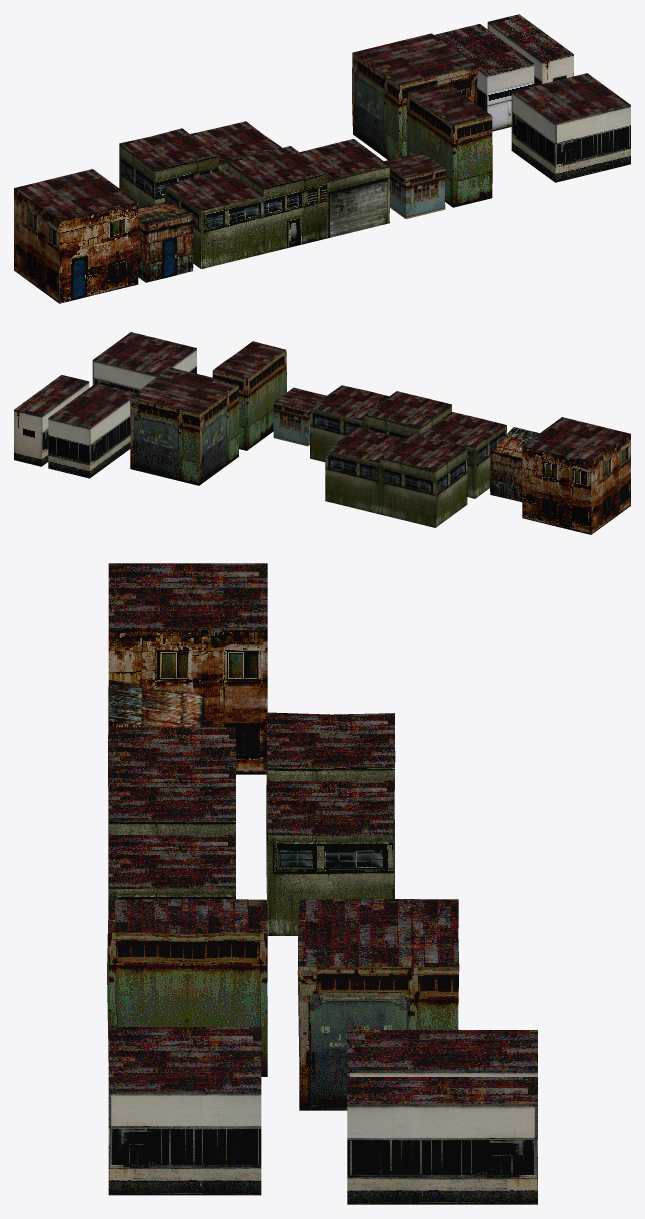
File: buildings-tilesheet.glb
The picture shows the model from 3 angles, top to bottom: view 1: azimuth 30°, elevation 25°; view 2: azimuth 150°, elevation 25°; view 3: azimuth 270°, elevation 25°; orthographic projection. The views are drawn at different scales.
Visible parts, largest first — view 1: garage-long-col, apt-col, hosptital-wing-col, factory-core-col, factory-extension-col, garage-col, hospital-entr-col, shed-col, factory-windows-col, hospital-addon-col; view 2: garage-col, factory-core-col, apt-col, garage-long-col, hospital-entr-col, factory-extension-col, hosptital-wing-col, hospital-addon-col, shed-col, factory-windows-col; view 3: hosptital-wing-col, garage-col, factory-core-col, hospital-addon-col, apt-col, garage-long-col, factory-extension-col, hospital-entr-col, shed-col.
Boxes of the visible parts, bbox=[...] form: garage-long-col: bbox=[164, 139, 389, 268]; apt-col: bbox=[14, 169, 138, 303]; hosptital-wing-col: bbox=[511, 73, 630, 182]; factory-core-col: bbox=[352, 33, 477, 159]; factory-extension-col: bbox=[406, 82, 492, 207]; garage-col: bbox=[119, 121, 281, 207]; hospital-entr-col: bbox=[434, 24, 534, 131]; shed-col: bbox=[138, 202, 193, 282]; factory-windows-col: bbox=[384, 152, 445, 218]; hospital-addon-col: bbox=[487, 14, 573, 85]; garage-col: bbox=[325, 427, 467, 527]; factory-core-col: bbox=[130, 367, 239, 485]; apt-col: bbox=[522, 417, 630, 534]; garage-long-col: bbox=[309, 385, 506, 498]; hospital-entr-col: bbox=[48, 383, 135, 478]; factory-extension-col: bbox=[212, 341, 286, 450]; hosptital-wing-col: bbox=[92, 332, 196, 392]; hospital-addon-col: bbox=[14, 375, 89, 466]; shed-col: bbox=[490, 427, 539, 502]; factory-windows-col: bbox=[273, 387, 326, 446]; hosptital-wing-col: bbox=[108, 1027, 261, 1195]; garage-col: bbox=[266, 712, 395, 935]; factory-core-col: bbox=[297, 899, 459, 1110]; hospital-addon-col: bbox=[347, 1077, 537, 1204]; apt-col: bbox=[108, 563, 267, 774]; garage-long-col: bbox=[108, 727, 235, 905]; factory-extension-col: bbox=[107, 898, 267, 1076]; hospital-entr-col: bbox=[347, 1030, 537, 1076]; shed-col: bbox=[108, 680, 204, 786].
Size of the model in its own units: 74 by 10.1 by 27.11.
Materials: 5 (5 with a texture image).
